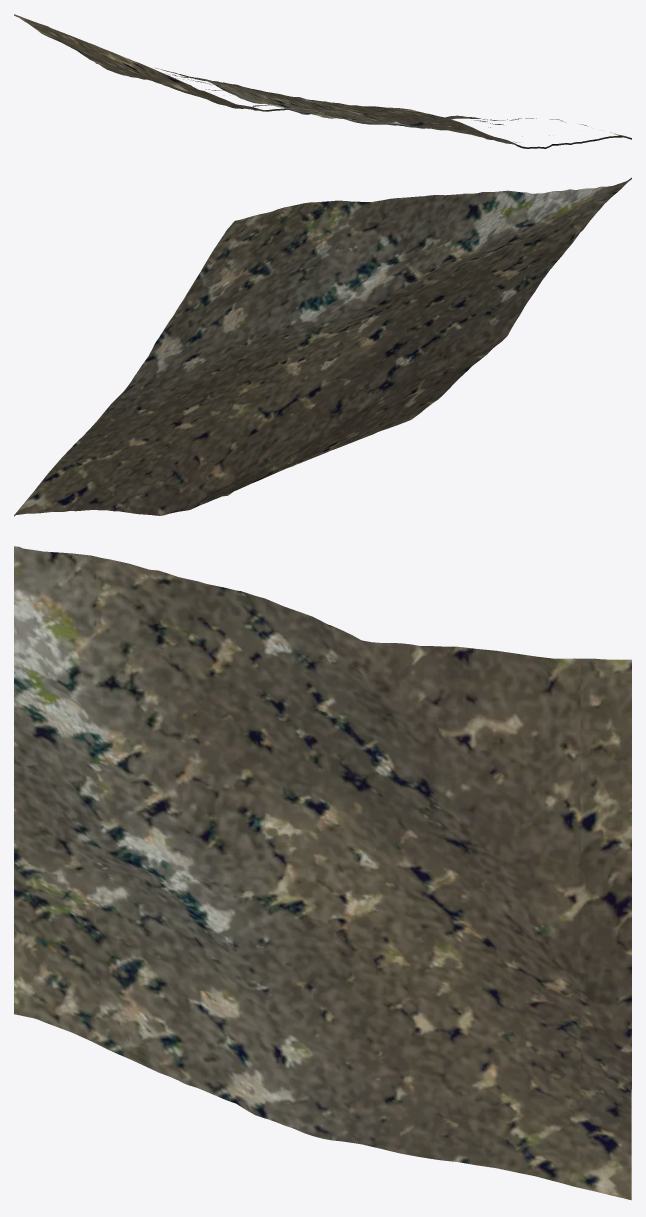
The picture shows the model from 3 angles, top to bottom: view 1: azimuth 30°, elevation 25°; view 2: azimuth 150°, elevation 25°; view 3: azimuth 270°, elevation 25°; orthographic projection. The views are drawn at different scales.
Size of the model in its own units: 250 by 165 by 241.
Materials: 1 (1 with a texture image).
